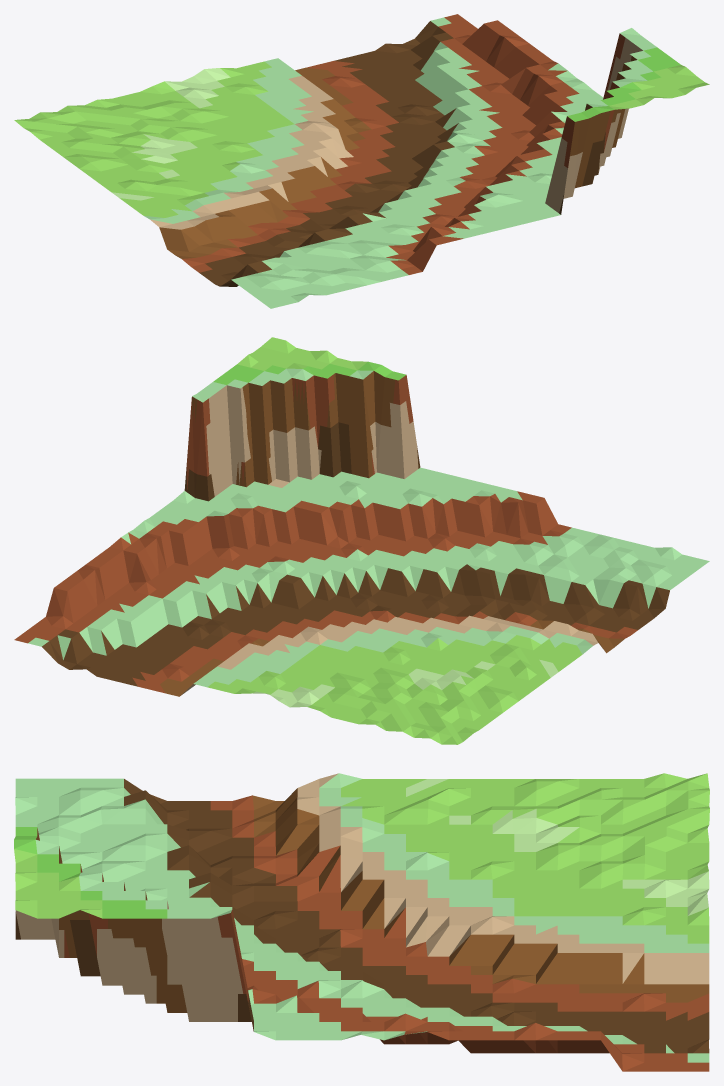
The model's file is Level1Terrain.fbx.
The picture shows the model from 3 angles, top to bottom: view 1: azimuth 30°, elevation 25°; view 2: azimuth 150°, elevation 25°; view 3: azimuth 270°, elevation 25°; orthographic projection. The views are drawn at different scales.
Parts seen in each view (by area): view 1: Level1Terrain; view 2: Level1Terrain; view 3: Level1Terrain.
Part boxes in pixels (left/top/right/bottom): Level1Terrain: left=14, top=14, right=709, bottom=308; Level1Terrain: left=14, top=337, right=709, bottom=744; Level1Terrain: left=14, top=773, right=709, bottom=1071.
Bounding box in the file's own units: 1566 × 1573 × 452.
